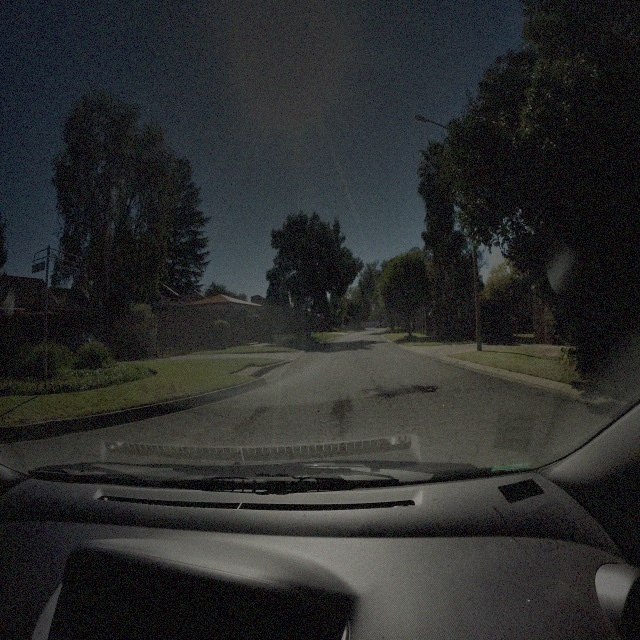pothole: (374, 382, 439, 401), (361, 386, 374, 398)
